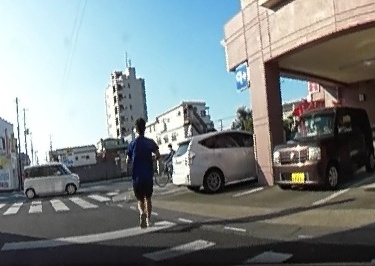person: (127, 113, 155, 224), (164, 142, 176, 169)
